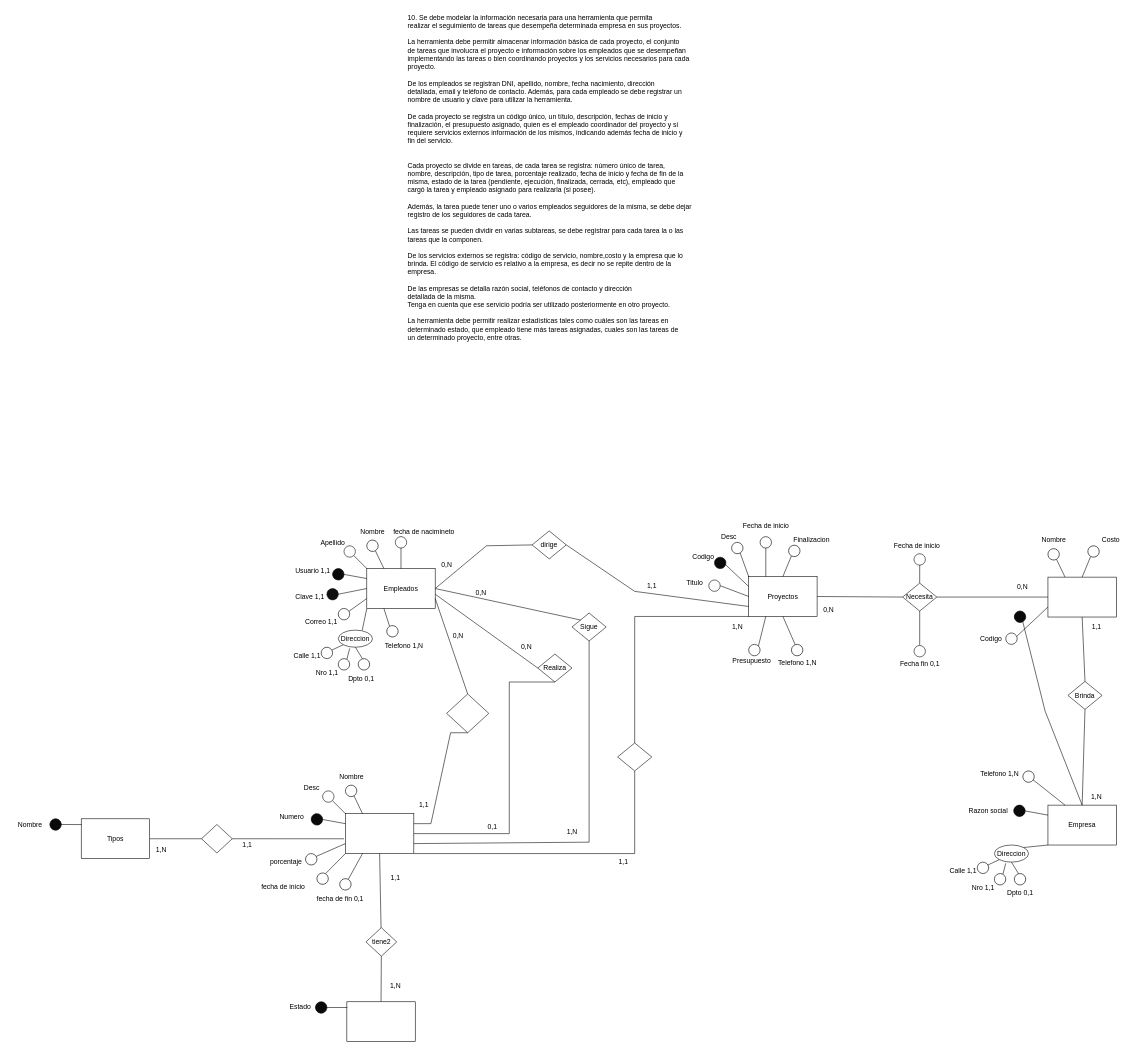
Image size: 1134x1052. Some labels were removed from this diagram. Each missing label, with the centre of its shape:
"divide" goes at [634,756].
"Estados" goes at [380,1021].
"Responsable" goes at [467,713].
"Servicos" goes at [1081,597].
"Tareas" goes at [379,833].
"tiene" goes at [216,838].
